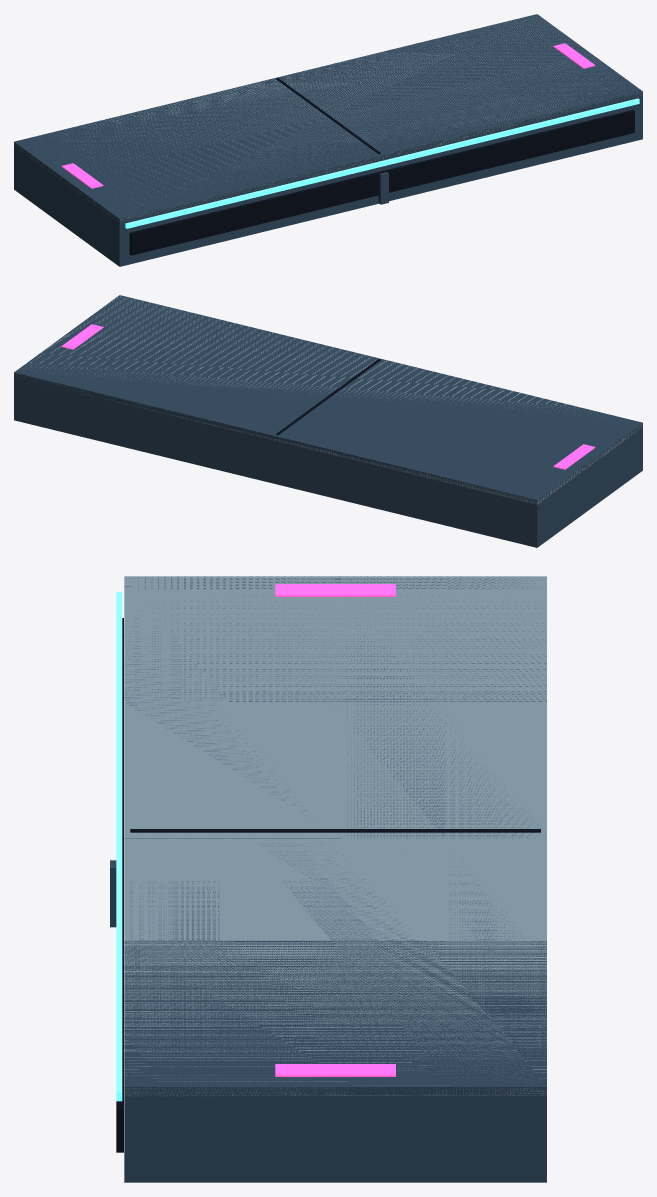
File: platform.glb
3 renders of one model, top to bottom at view 1: azimuth 30°, elevation 25°; view 2: azimuth 150°, elevation 25°; view 3: azimuth 270°, elevation 25°, orthographic. The views are drawn at different scales.
Visible parts, largest first — view 1: prop-platform-sz-armor, prop-platform-sz-edge, prop-platform-sz-rubber, prop-platform-sz-mint, prop-platform-sz-pink; view 2: prop-platform-sz-armor, prop-platform-sz-edge, prop-platform-sz-pink, prop-platform-sz-rubber; view 3: prop-platform-sz-edge, prop-platform-sz-armor, prop-platform-sz-mint, prop-platform-sz-pink, prop-platform-sz-rubber.
Boxes of the visible parts, x1,y1,x2,y2 form: prop-platform-sz-armor: (14,14,642,266); prop-platform-sz-edge: (14,14,640,221); prop-platform-sz-rubber: (129,78,634,255); prop-platform-sz-mint: (125,98,639,228); prop-platform-sz-pink: (61,43,595,188); prop-platform-sz-armor: (14,295,642,547); prop-platform-sz-edge: (14,295,642,504); prop-platform-sz-pink: (61,324,595,469); prop-platform-sz-rubber: (276,359,380,435); prop-platform-sz-edge: (124,576,546,1096); prop-platform-sz-armor: (110,576,546,1182); prop-platform-sz-mint: (116,592,122,1101); prop-platform-sz-pink: (275,584,395,1076); prop-platform-sz-rubber: (116,618,540,1152).
Bounding box in the file's own units: 4 × 0.357 × 1.45.
